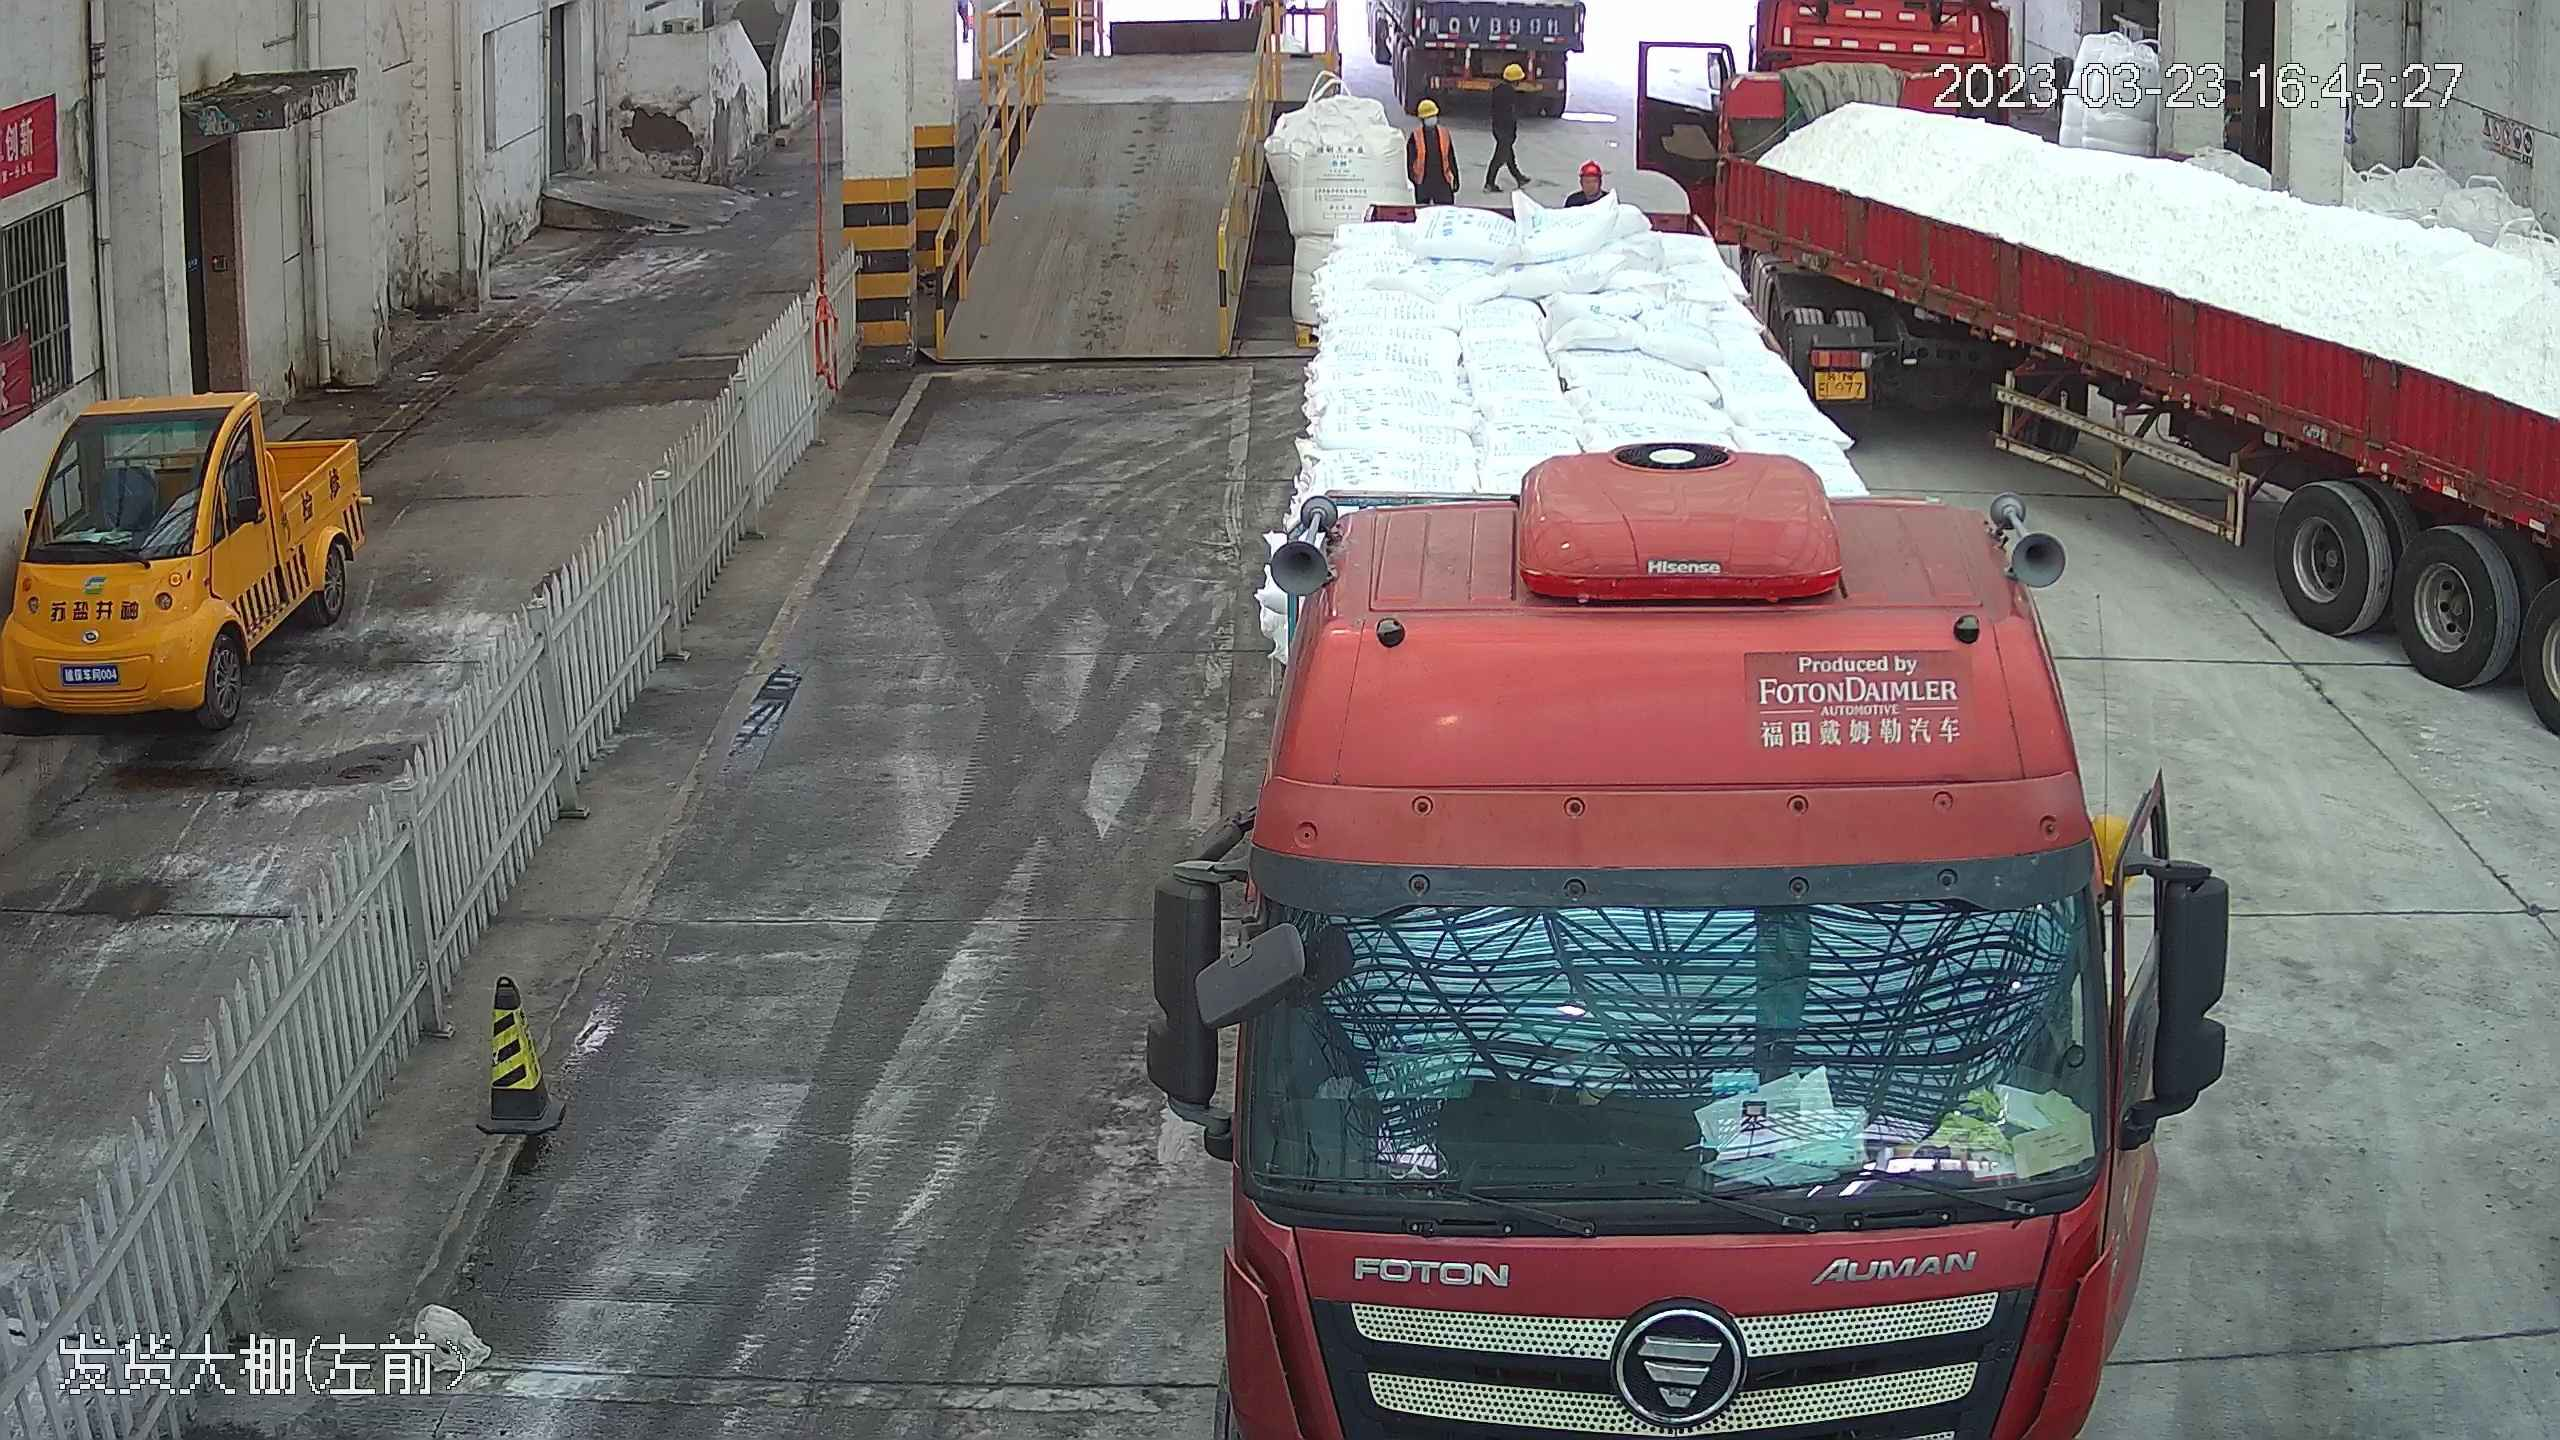head: (1566, 157, 1610, 208), (1410, 94, 1450, 142), (1490, 63, 1531, 103)
helmet: (1493, 62, 1523, 84), (1579, 158, 1603, 179), (1418, 93, 1439, 111)
people: (1408, 91, 1461, 206), (1483, 64, 1530, 189)
truck: (1186, 33, 2163, 1440), (1621, 1, 2560, 725)
